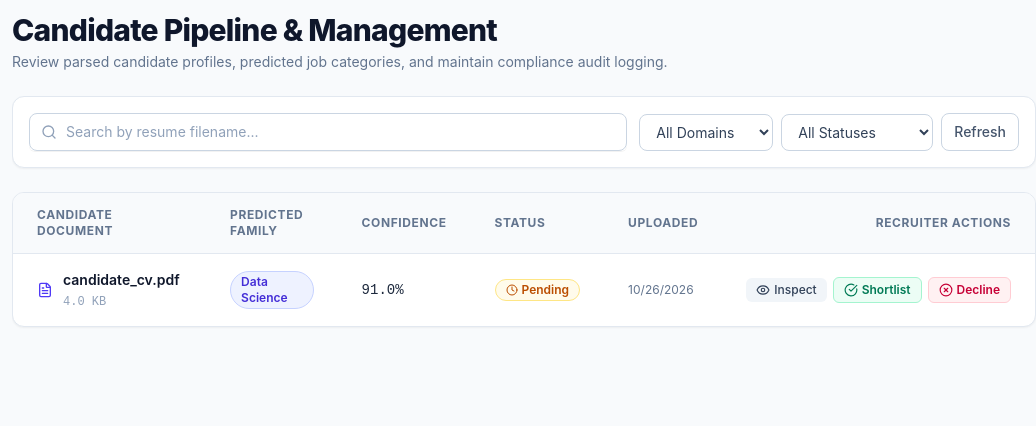
Recruiter Evaluation Workflow UI › displays candidate evaluation status and logs recruiter actions
This screenshot has width=1036, height=426.
Expected: the text "candidate_cv.pdf" is shown, [63, 270, 180, 290]
Expected: the text "Pending" is shown, [522, 282, 569, 298]
Note: Shortlist candidate
Step 1. Click the button "Shortlist" → point(877, 290), box [833, 277, 922, 303]
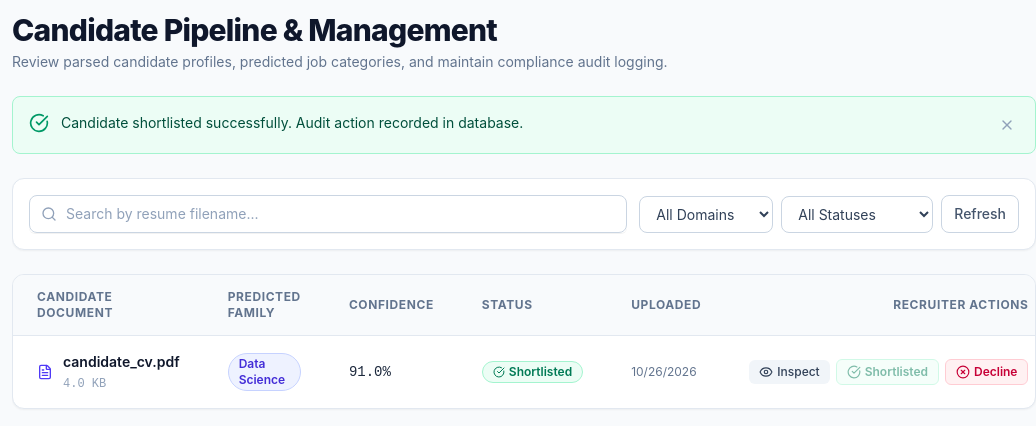
Expected: the text "shortlisted successfully" is shown, [61, 114, 523, 131]
